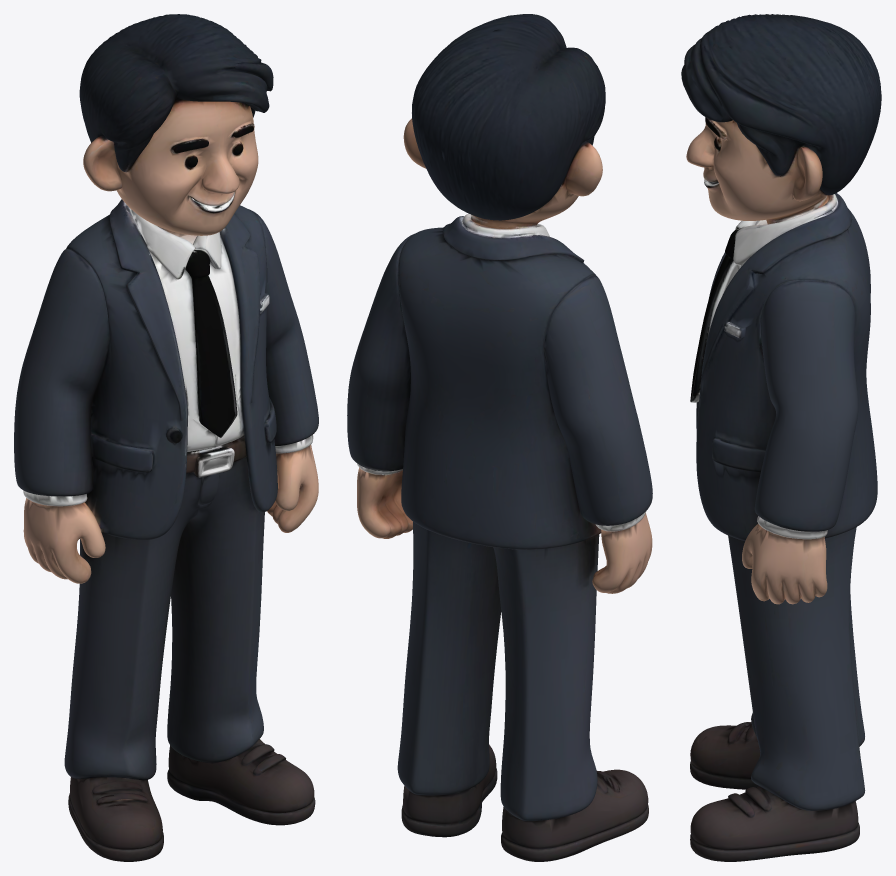
Rendered from player-male.glb.
3 views of the same model, side by side, from view 1: azimuth 30°, elevation 25°; view 2: azimuth 150°, elevation 25°; view 3: azimuth 270°, elevation 25° (orthographic).
Parts seen in each view (by area): view 1: node_0; view 2: node_0; view 3: node_0.
Boxes of the visible parts, x1,y1,x2,y2 form: node_0: (14,14,318,861); node_0: (347,14,652,861); node_0: (681,14,881,861).
Size of the model in its own units: 0.445 by 1.15 by 0.2632.
Materials: 1 (1 with a texture image).
